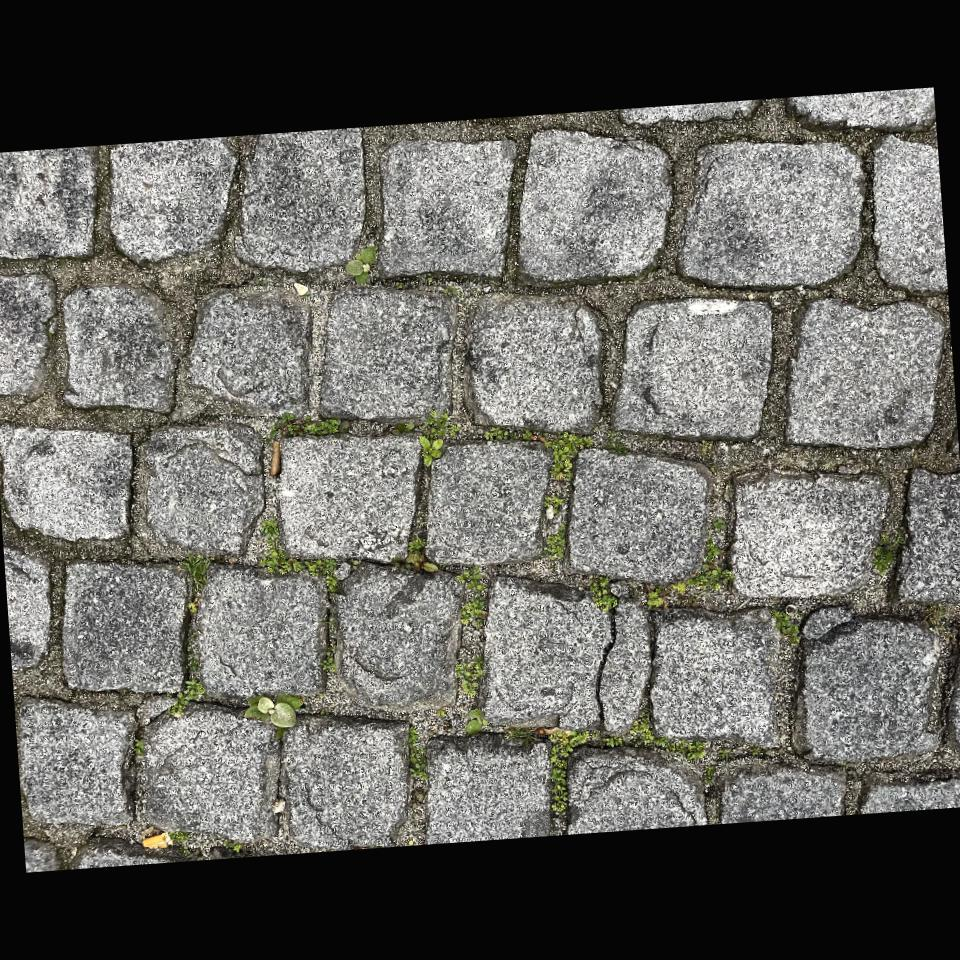weed: (259, 520, 350, 592), (648, 533, 734, 607), (622, 711, 707, 760), (551, 733, 591, 813), (244, 694, 301, 738), (179, 553, 215, 618), (545, 432, 591, 482), (267, 413, 348, 441), (174, 628, 200, 703), (457, 567, 486, 628), (419, 411, 448, 466), (542, 494, 566, 558), (874, 529, 904, 575), (408, 725, 428, 785), (771, 605, 800, 646), (456, 655, 483, 697), (346, 247, 375, 284), (485, 427, 546, 444), (591, 577, 618, 611), (466, 709, 488, 734), (449, 425, 459, 434)
